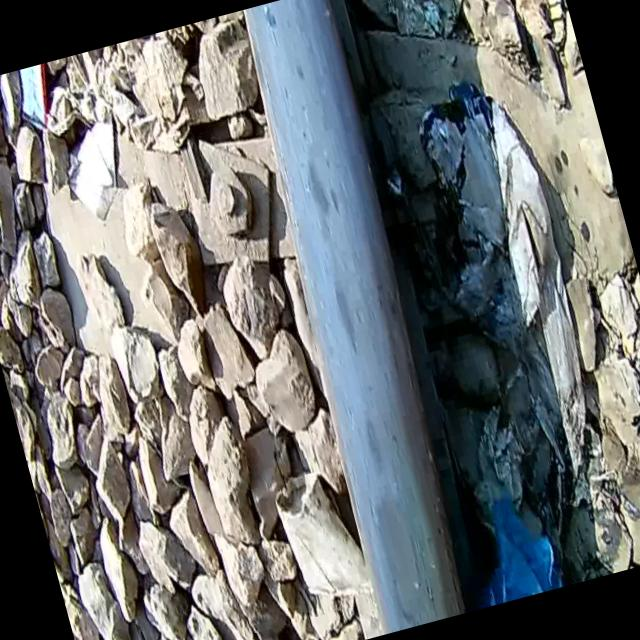Squats: (199, 0, 516, 639)
